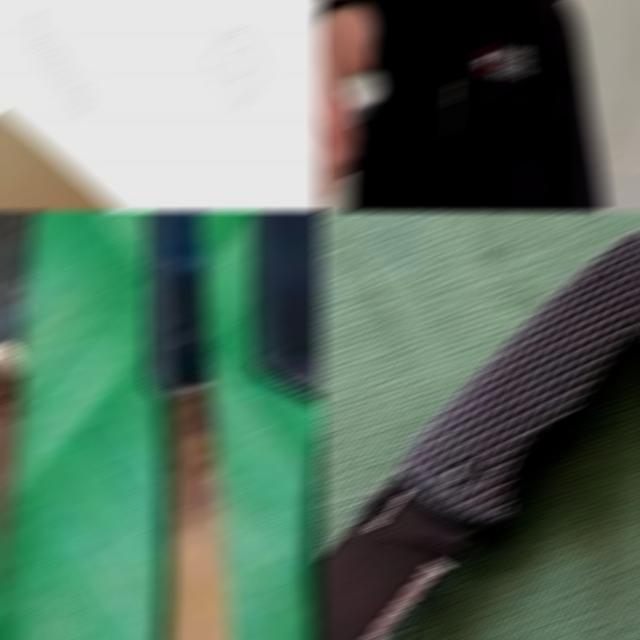Knife: (316, 231, 640, 639), (142, 212, 233, 639)
Knife_Handle: (0, 32, 324, 210), (316, 4, 384, 210)
